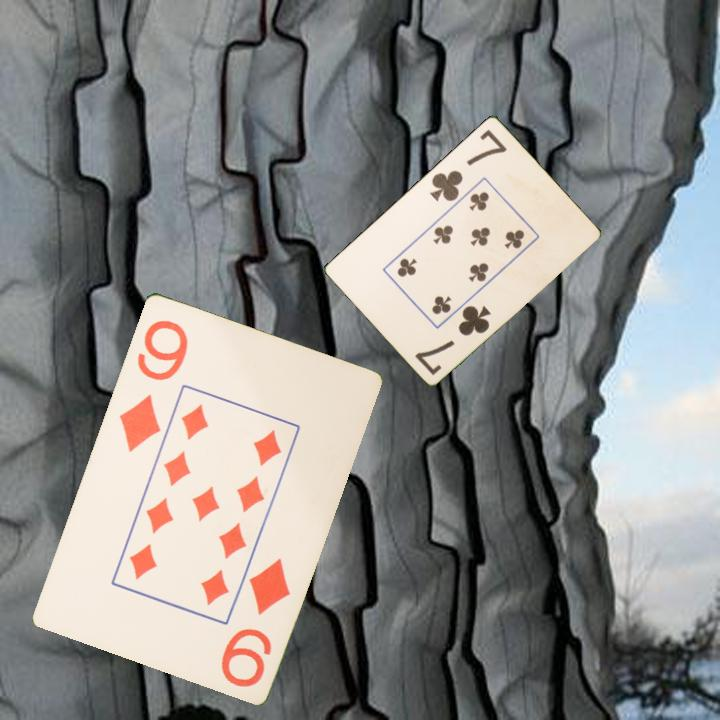7c: (426, 125, 510, 204), (411, 301, 494, 378)
9d: (115, 315, 191, 455), (217, 554, 294, 690)
